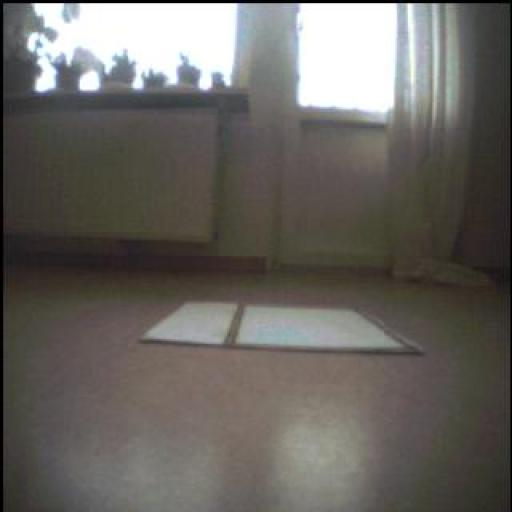Pad: (126, 309, 430, 344)
